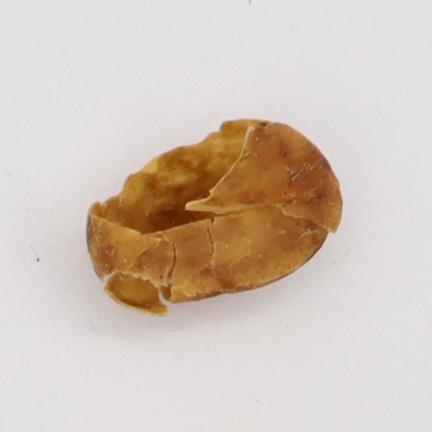parchment: (88, 119, 341, 314)
